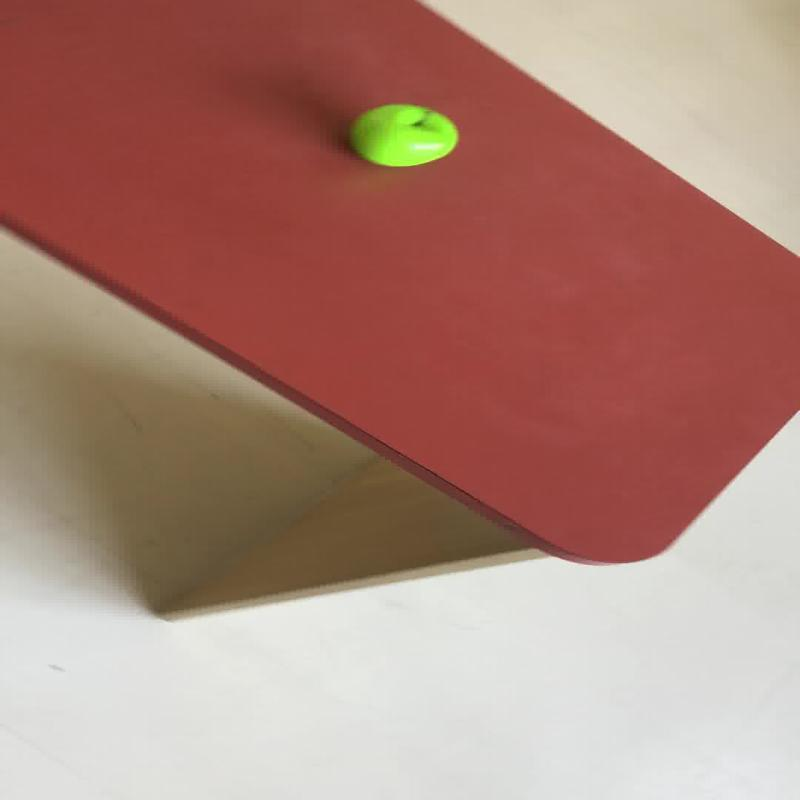apple: (348, 102, 458, 166)
